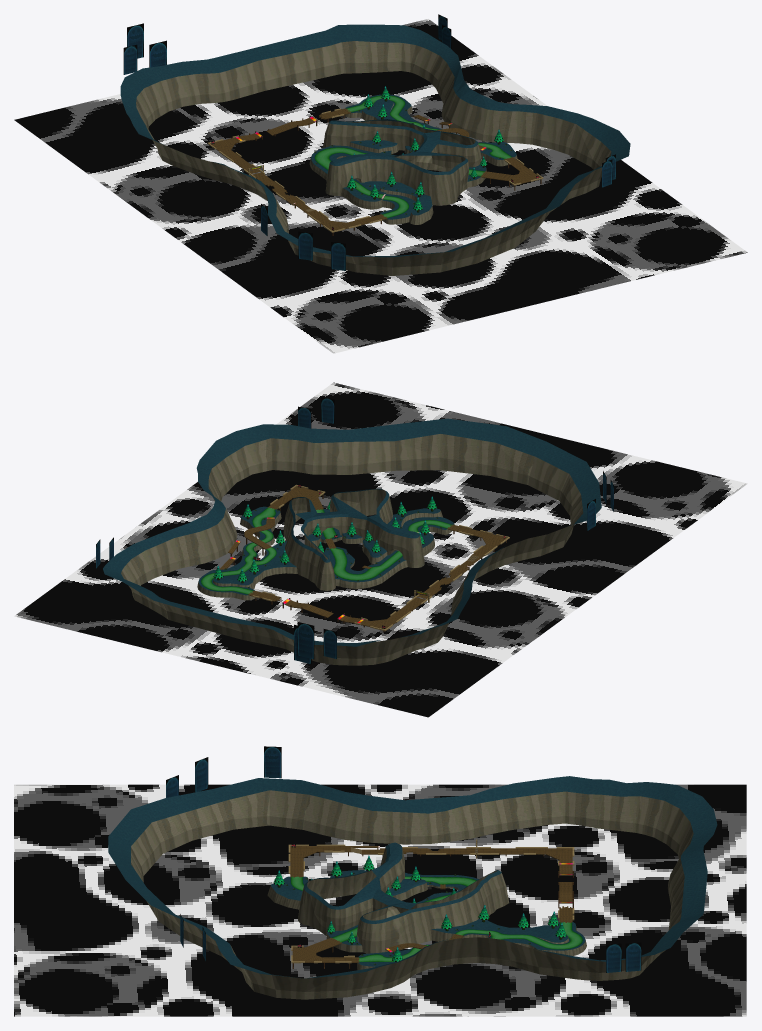
The picture shows the model from 3 angles, top to bottom: view 1: azimuth 30°, elevation 25°; view 2: azimuth 150°, elevation 25°; view 3: azimuth 270°, elevation 25°; orthographic projection. The views are drawn at different scales.
Parts seen in each view (by area): view 1: shadow-SKP--lake, shadow-SKP--Material6, shadow-SKP--grass, shadow-SKP--boardwalk, shadow-SKP--spookhill, shadow-SKP--road_dirt, shadow-SKP--treebushleaf, shadow-SKP--obakeblock; view 2: shadow-SKP--lake, shadow-SKP--Material6, shadow-SKP--grass, shadow-SKP--boardwalk, shadow-SKP--road_dirt, shadow-SKP--spookhill, shadow-SKP--treebushleaf, shadow-SKP--obakeblock; view 3: shadow-SKP--lake, shadow-SKP--Material6, shadow-SKP--grass, shadow-SKP--boardwalk, shadow-SKP--spookhill, shadow-SKP--road_dirt, shadow-SKP--treebushleaf, shadow-SKP--obakeblock.
Boxes of the visible parts, x1,y1,x2,y2 form: shadow-SKP--lake: (14,19,747,353); shadow-SKP--Material6: (136,41,611,275); shadow-SKP--grass: (120,24,630,257); shadow-SKP--boardwalk: (210,108,540,230); shadow-SKP--spookhill: (123,14,615,270); shadow-SKP--road_dirt: (314,95,511,218); shadow-SKP--treebushleaf: (347,86,503,210); shadow-SKP--obakeblock: (207,108,543,232); shadow-SKP--lake: (14,382,747,717); shadow-SKP--Material6: (121,434,583,665); shadow-SKP--grass: (103,418,601,646); shadow-SKP--boardwalk: (220,486,506,629); shadow-SKP--road_dirt: (200,507,452,594); shadow-SKP--spookhill: (96,397,613,664); shadow-SKP--treebushleaf: (213,496,436,581); shadow-SKP--obakeblock: (252,484,509,631); shadow-SKP--lake: (14,784,746,1016); shadow-SKP--Material6: (131,790,693,999); shadow-SKP--grass: (108,776,717,978); shadow-SKP--boardwalk: (290,846,573,962); shadow-SKP--spookhill: (166,746,641,972); shadow-SKP--road_dirt: (290,876,583,962); shadow-SKP--treebushleaf: (273,855,566,961); shadow-SKP--obakeblock: (288,844,574,963).
Size of the model in its own units: 136008 by 20577 by 181869.
Materials: 19 (19 with a texture image).
